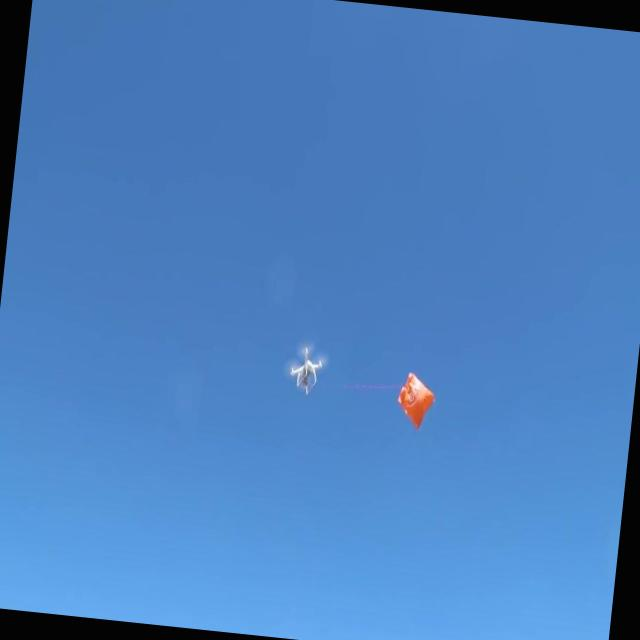drone: (284, 342, 326, 398)
